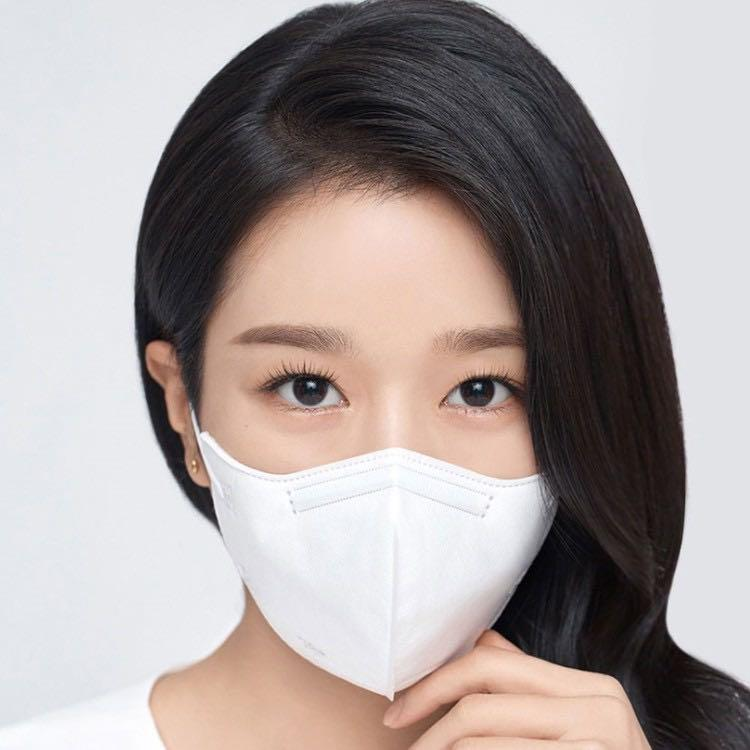mask: (182, 431, 567, 719)
person: (99, 2, 745, 750)
